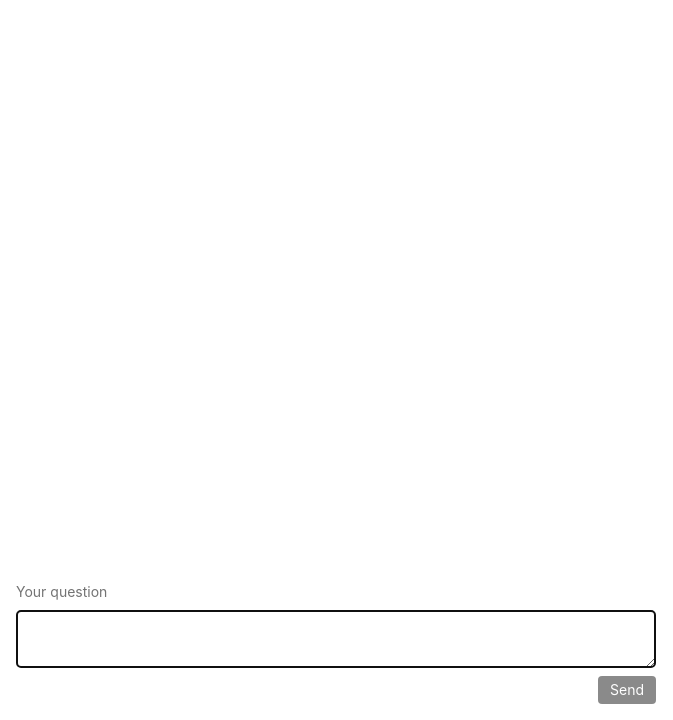
Test: Chat (jsdom) › sends by click and shows streamed then final content
Type "hi there" into the text box labelled "Your question" at coordinates (336, 639), box [16, 610, 656, 668]
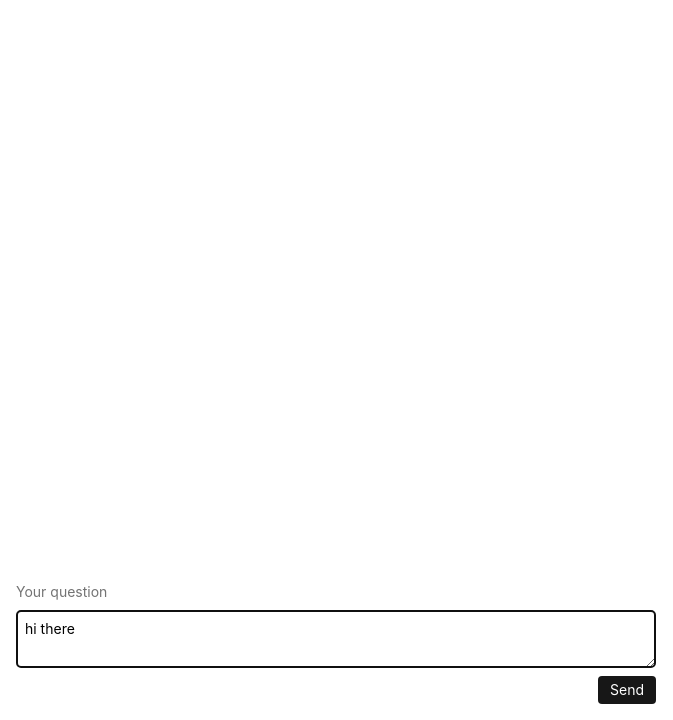
Click the button "Send" at coordinates (627, 690), box [598, 676, 656, 704]
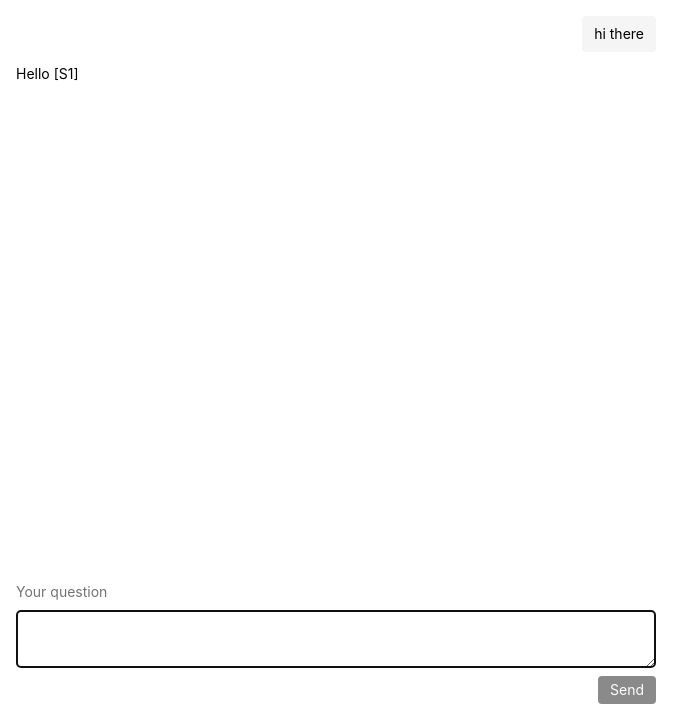
Now the text "Hello [S1]" is shown, box [16, 64, 79, 84]
Now the text box labelled "Your question" is empty, box [16, 610, 656, 668]
Now the text "hi there" is shown, box [582, 16, 656, 52]
